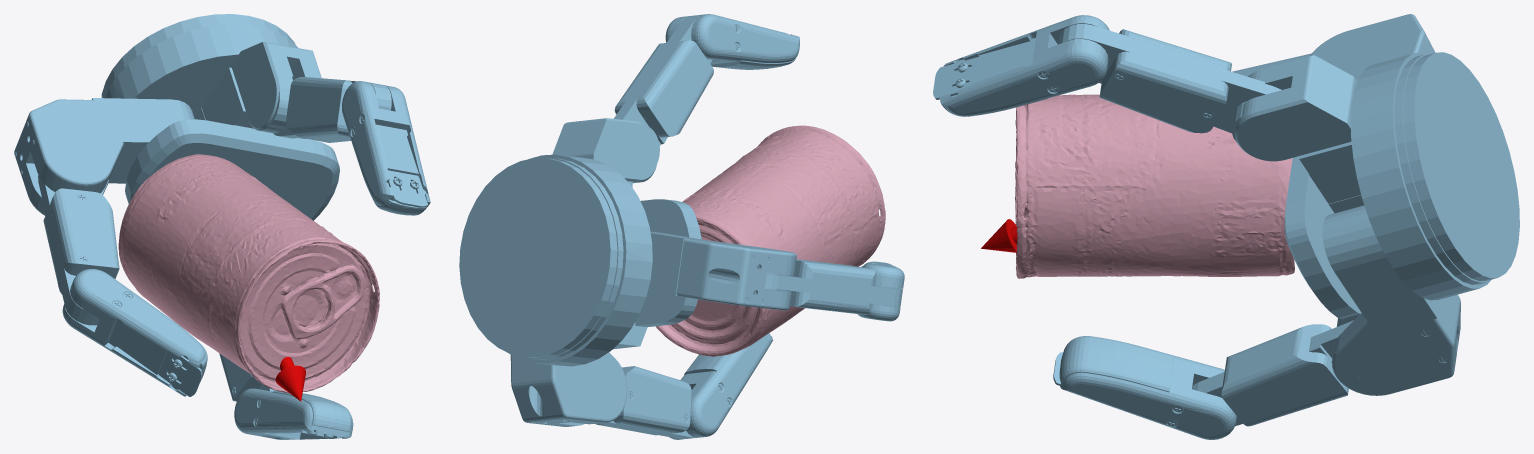
3 renders of one model, left to right at view 1: azimuth 30°, elevation 25°; view 2: azimuth 150°, elevation 25°; view 3: azimuth 270°, elevation 25°, orthographic. The views are drawn at different scales.
Parts seen in each view (by area): view 1: world, tomato_soup_can.stl; view 2: world, tomato_soup_can.stl; view 3: world, tomato_soup_can.stl.
Part boxes in pixels (left/top/right/bottom): world: left=14, top=14, right=430, bottom=439; tomato_soup_can.stl: left=118, top=154, right=379, bottom=393; world: left=459, top=14, right=904, bottom=439; tomato_soup_can.stl: left=655, top=125, right=885, bottom=356; world: left=933, top=14, right=1519, bottom=439; tomato_soup_can.stl: left=1015, top=94, right=1294, bottom=278.
Bounding box in the file's own units: 0.1622 × 0.1761 × 0.2136.
